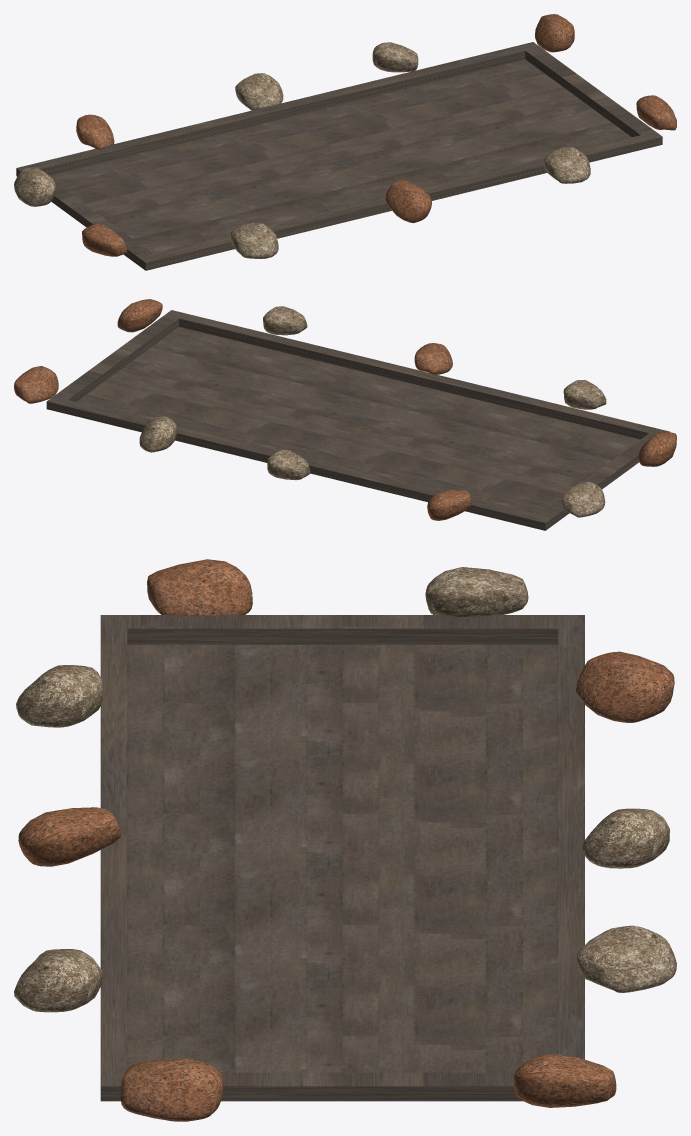
Rendered from Lago.obj.
The picture shows the model from 3 angles, top to bottom: view 1: azimuth 30°, elevation 25°; view 2: azimuth 150°, elevation 25°; view 3: azimuth 270°, elevation 25°; orthographic projection. The views are drawn at different scales.
Parts seen in each view (by area): view 1: pCube12; view 2: pCube12; view 3: pCube12.
Boxes of the visible parts, box(x1,y1,x2,y2) form: pCube12: box(14, 14, 676, 270); pCube12: box(14, 299, 676, 530); pCube12: box(14, 559, 676, 1121).
Bounding box in the file's own units: 21.3 × 1.15 × 11.33.
